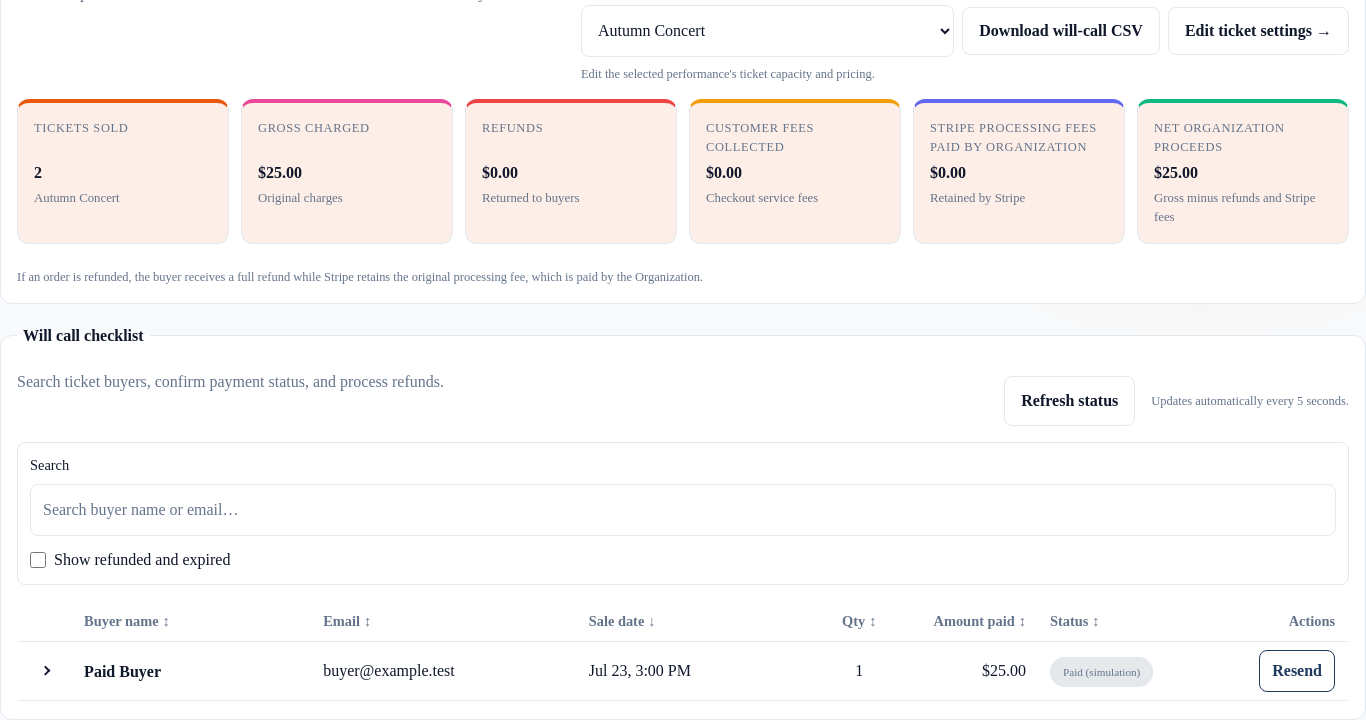
Test: WillCallPanel refund confirmation dialog › opens modal confirmation dialog before refunding and honors cancel
(page scrolled)
Click the button named "Show details for Paid Buyer". click: [46, 671]
box: x1=30 y1=655 x2=62 y2=687
(page scrolled)
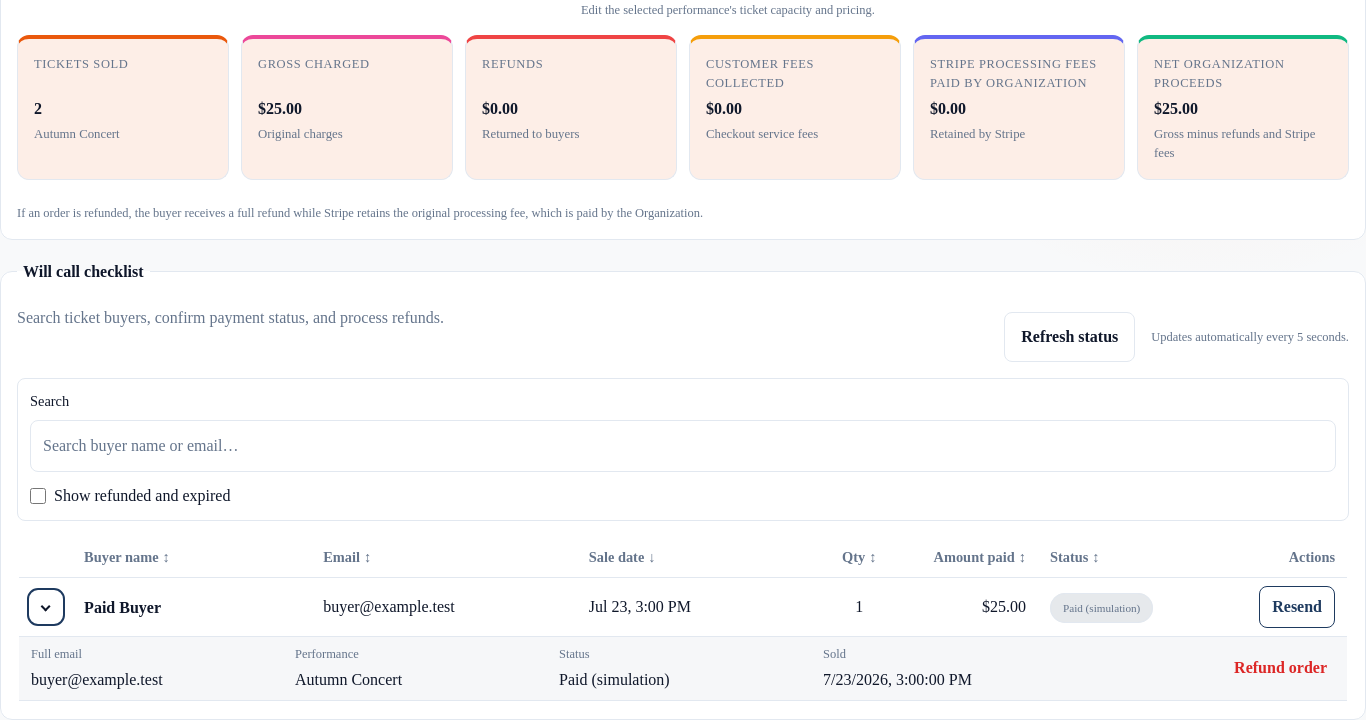
Click the button "Refund order". click: [1281, 668]
box: x1=1226 y1=650 x2=1335 y2=686
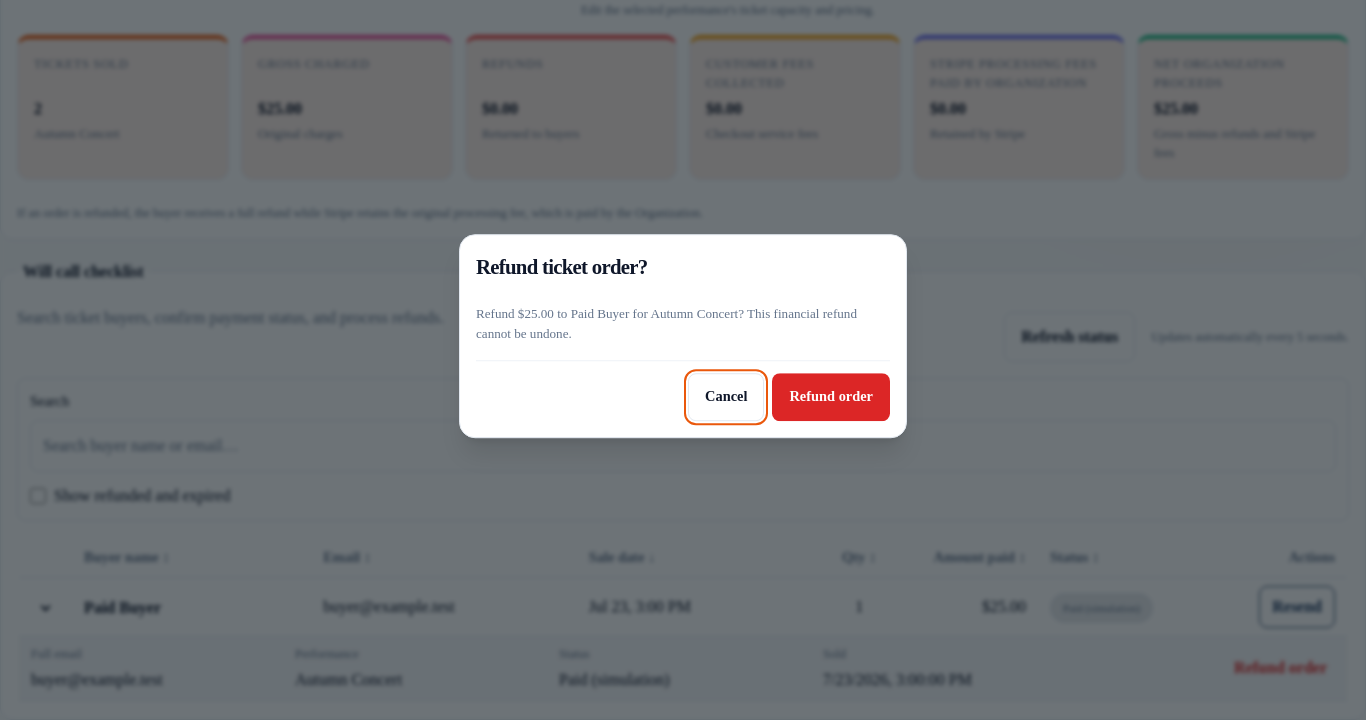
expect the dialog is shown: met, box x1=459 y1=234 x2=907 y2=438
expect the heading "Refund ticket order?" is shown: met, box x1=476 y1=251 x2=647 y2=282
expect the text "Refund $25.00 to Paid Buyer for Autumn Concert?" is shown: met, box x1=476 y1=306 x2=857 y2=341
Click the button "Cancel". click: [726, 397]
box: x1=688 y1=373 x2=764 y2=421
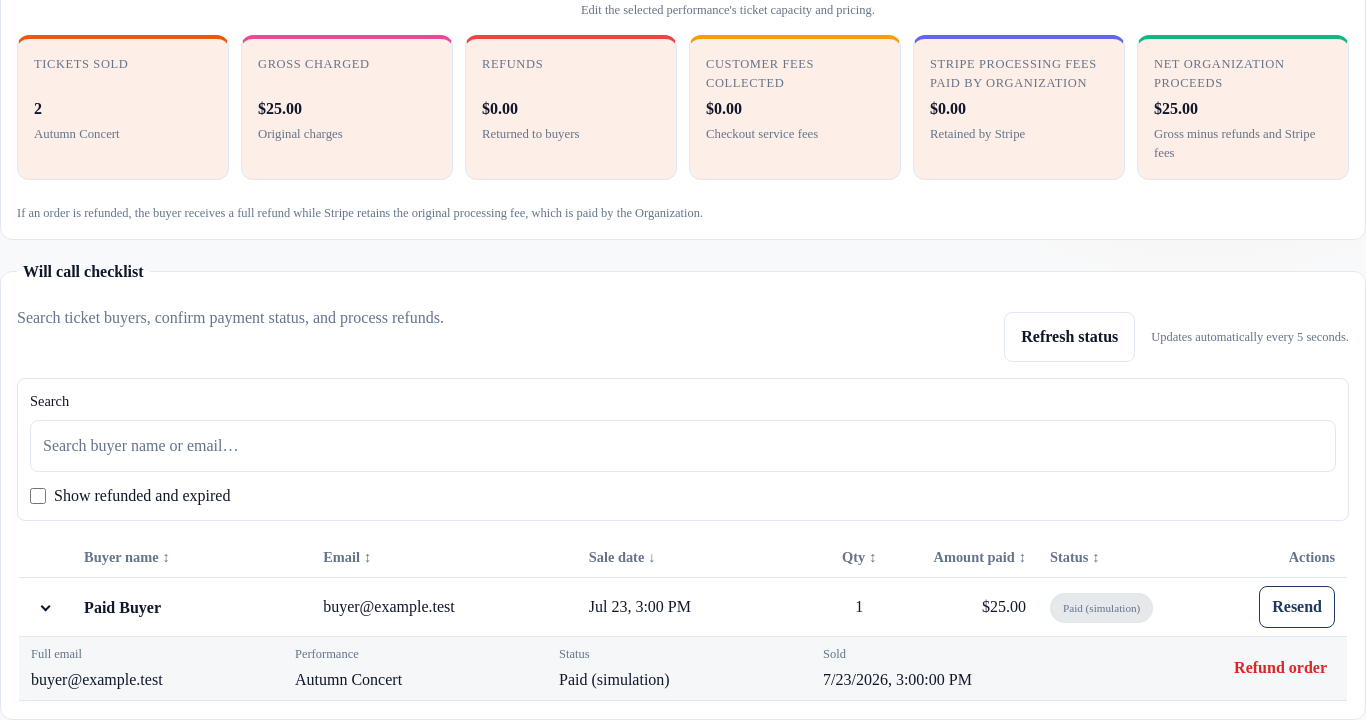
expect the dialog is gone: met
